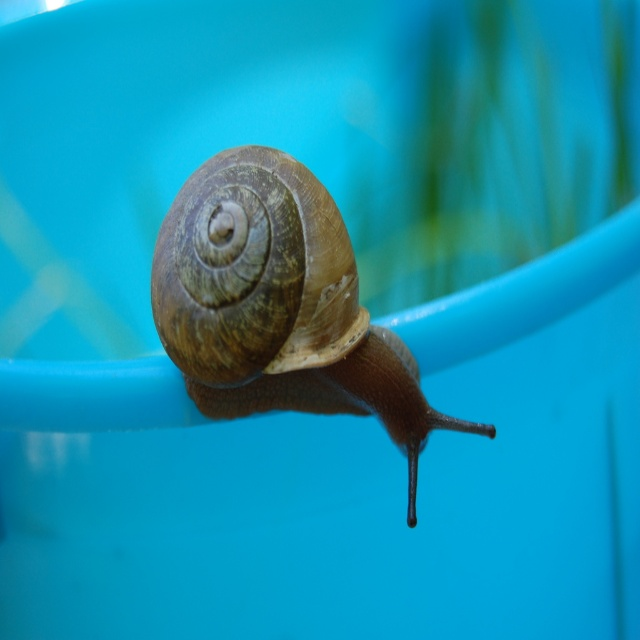Snail: (149, 143, 498, 529)
